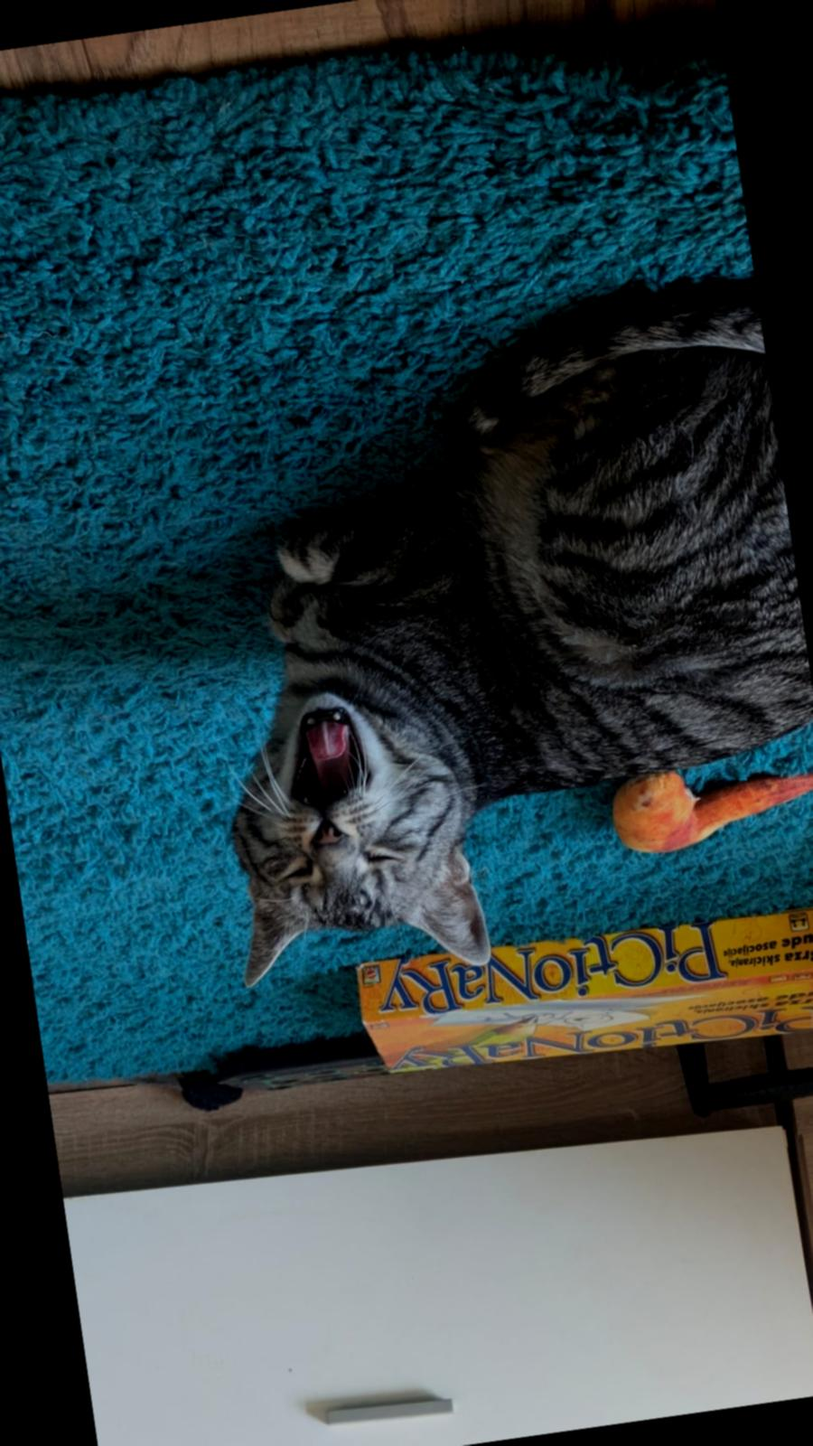macka: (155, 284, 813, 1005)
